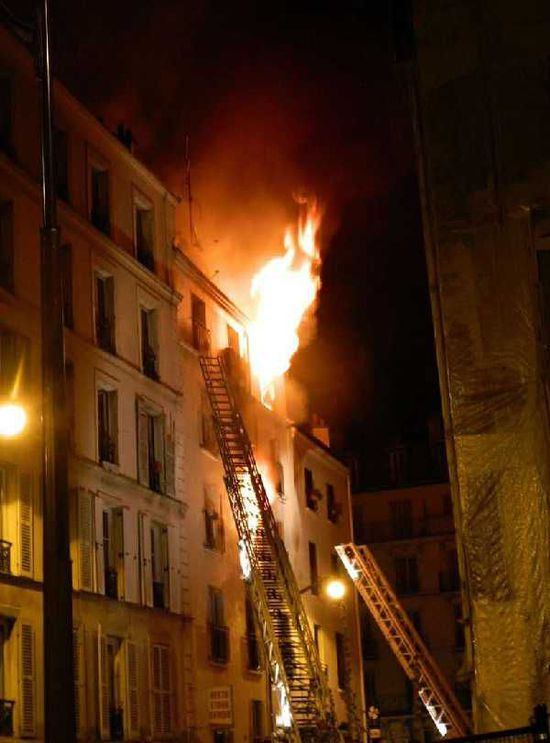fire: (232, 187, 327, 401)
